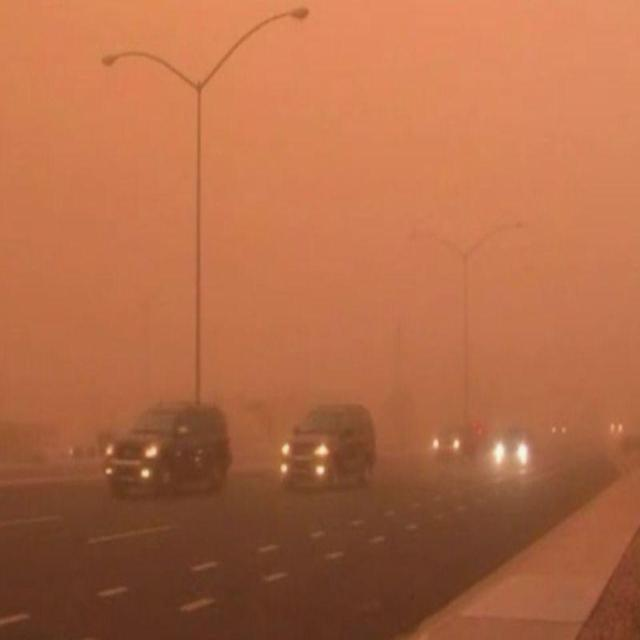Car: (105, 388, 236, 504), (276, 389, 380, 500), (493, 400, 533, 490), (429, 401, 469, 466), (542, 388, 572, 450), (601, 388, 627, 447)
